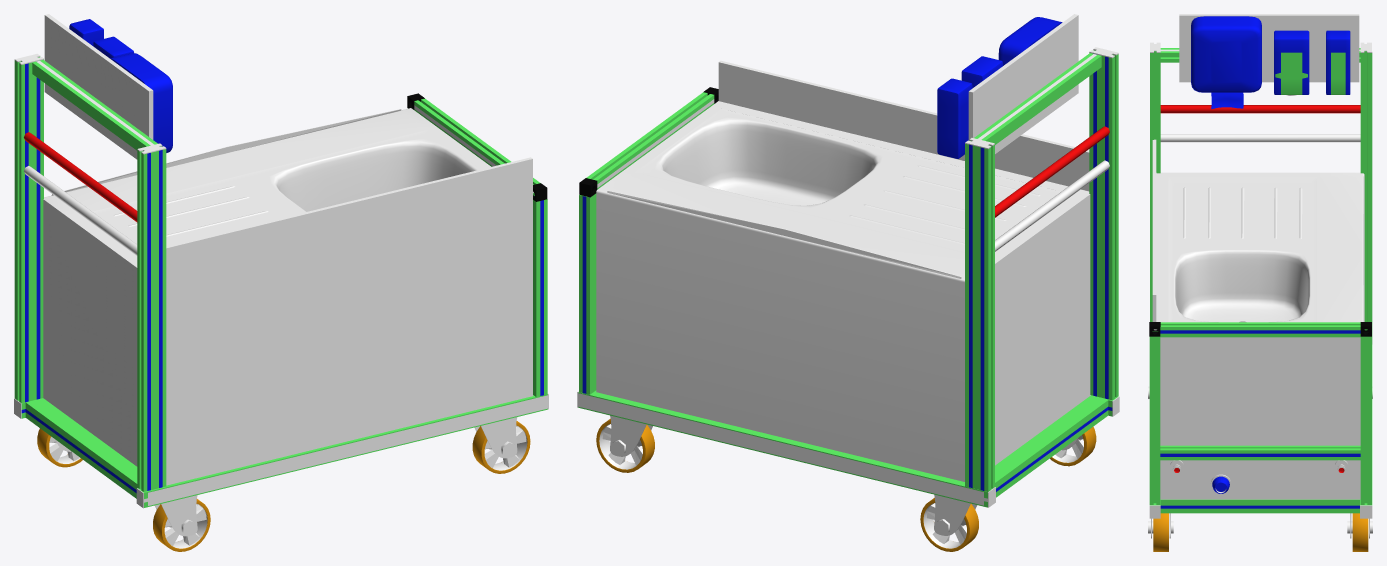
The model's file is RC05 Spüle.FBX.
The picture shows the model from 3 angles, left to right: view 1: azimuth 30°, elevation 25°; view 2: azimuth 150°, elevation 25°; view 3: azimuth 270°, elevation 25°; orthographic projection. The views are drawn at different scales.
Parts seen in each view (by area): view 1: Trolly_9; view 2: Trolly_9; view 3: Trolly_9.
Boxes of the visible parts, x1,y1,x2,y2 form: Trolly_9: (14, 14, 548, 551); Trolly_9: (577, 14, 1119, 551); Trolly_9: (1148, 14, 1372, 551).
Bounding box in the file's own units: 14.05 × 15.04 × 7.82.
